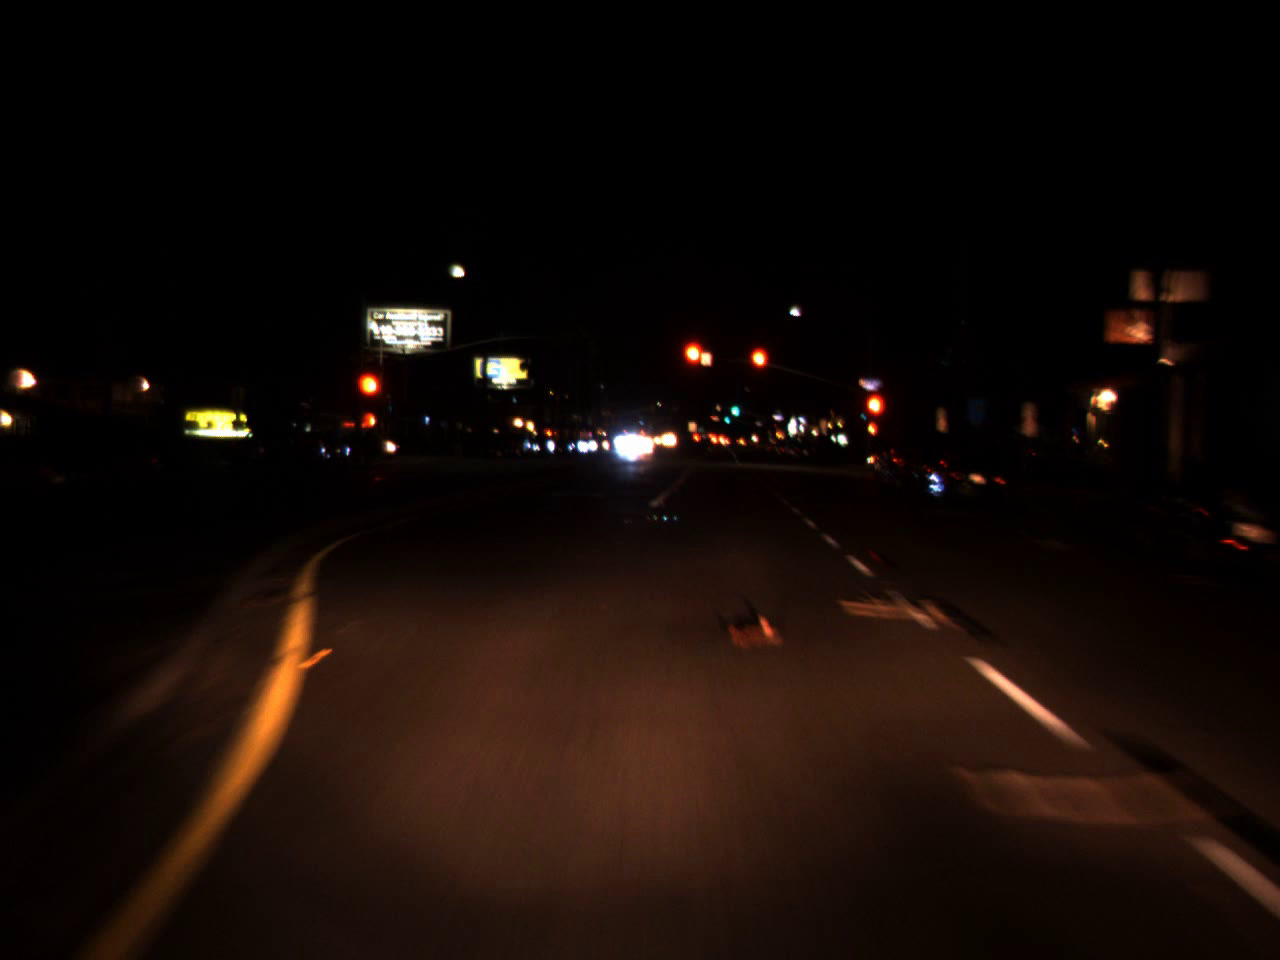go: (728, 393, 740, 419), (723, 410, 730, 425)
stop: (355, 368, 385, 424), (680, 339, 708, 390), (863, 391, 887, 439), (748, 345, 770, 390)
